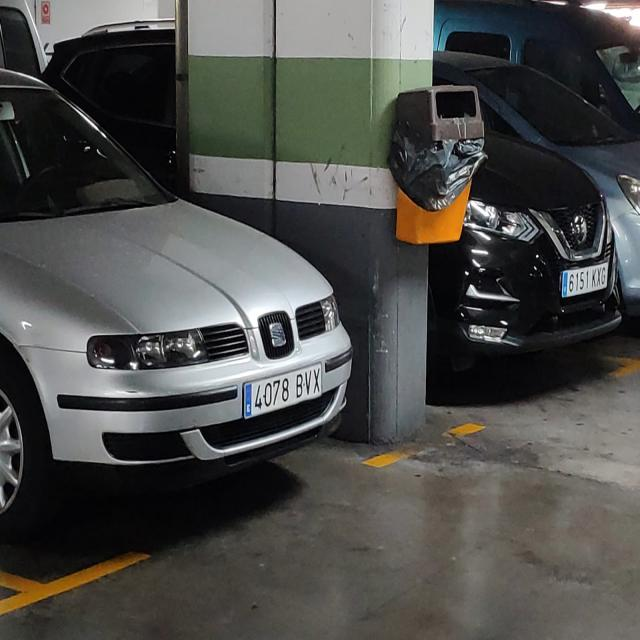License-Plate: (243, 361, 323, 419), (561, 262, 610, 300)
